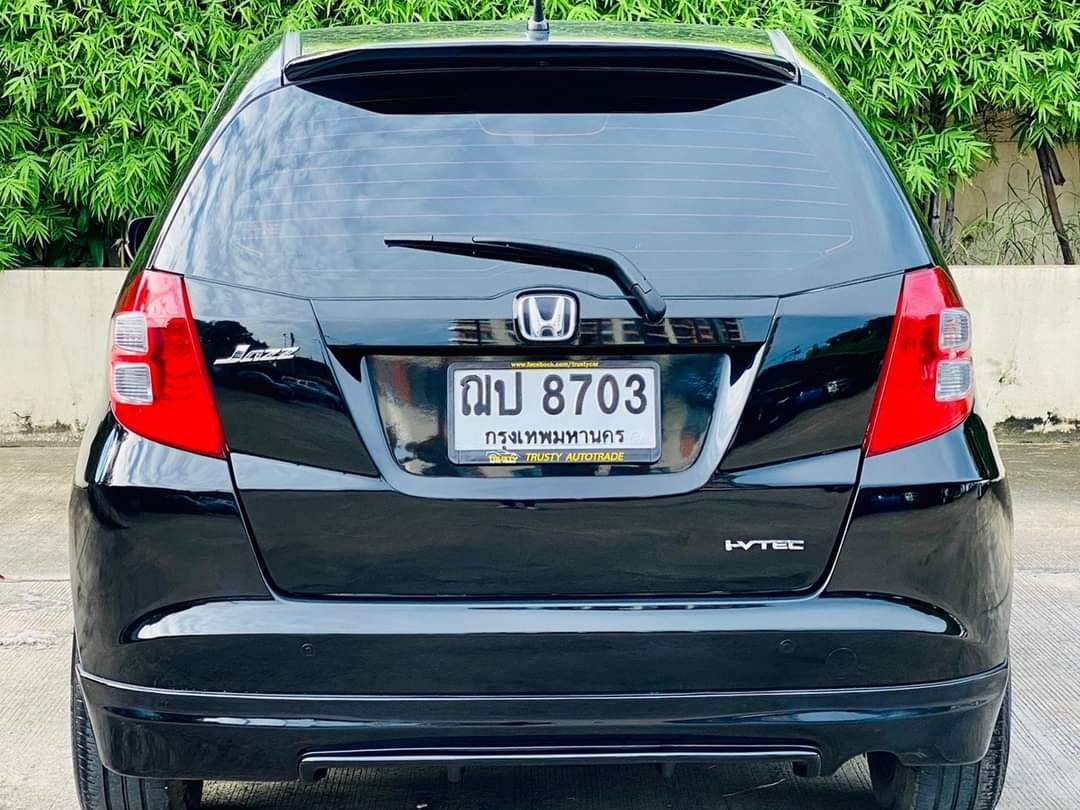license-plate: (445, 358, 664, 464)
